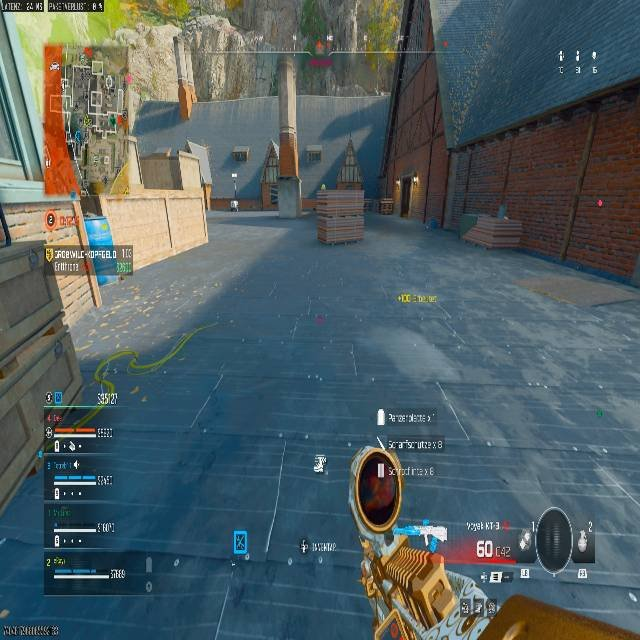player: (229, 201, 238, 212)
